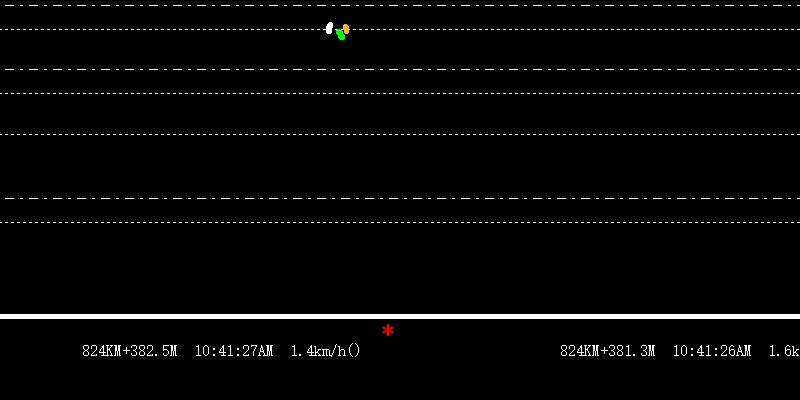face_1: (323, 18, 334, 38), (341, 21, 351, 35)
star: (380, 321, 395, 337)
